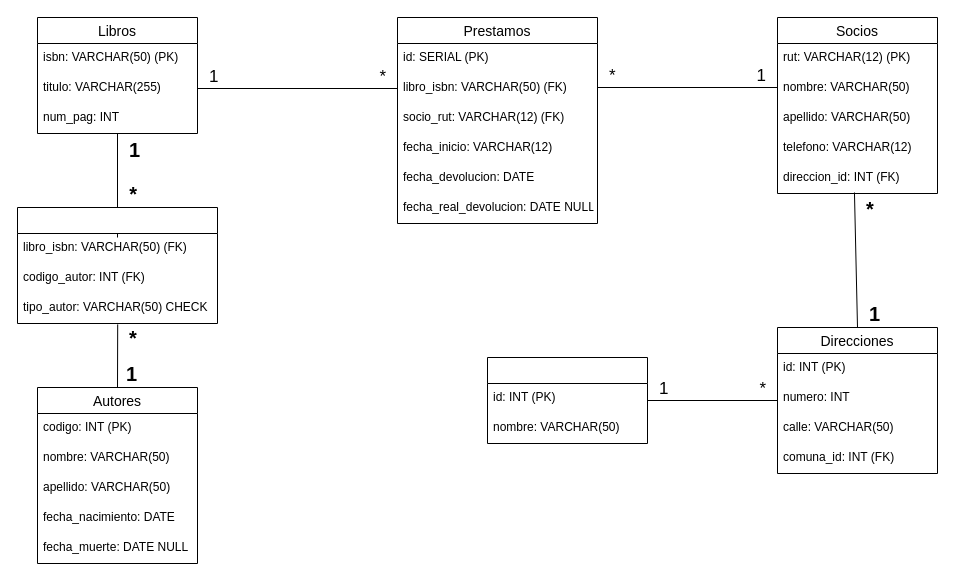
Image size: 955x584. Some labels were removed from this diagram. The box of each missing label's shape, as (x1, y1, x2, y2) in pixels:
AutoresLibros: (16, 206, 218, 324)
Comunas: (486, 356, 648, 444)
